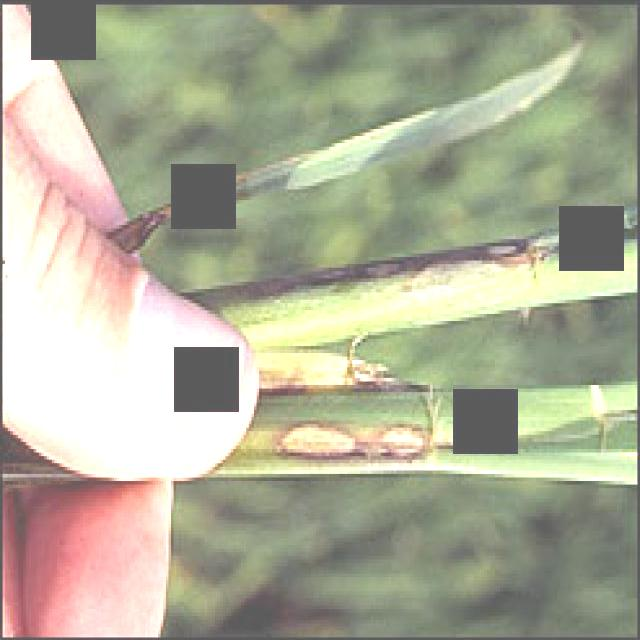Bacterial_Leaf_Blight: (295, 238, 539, 298), (271, 412, 439, 464), (259, 352, 379, 394)
